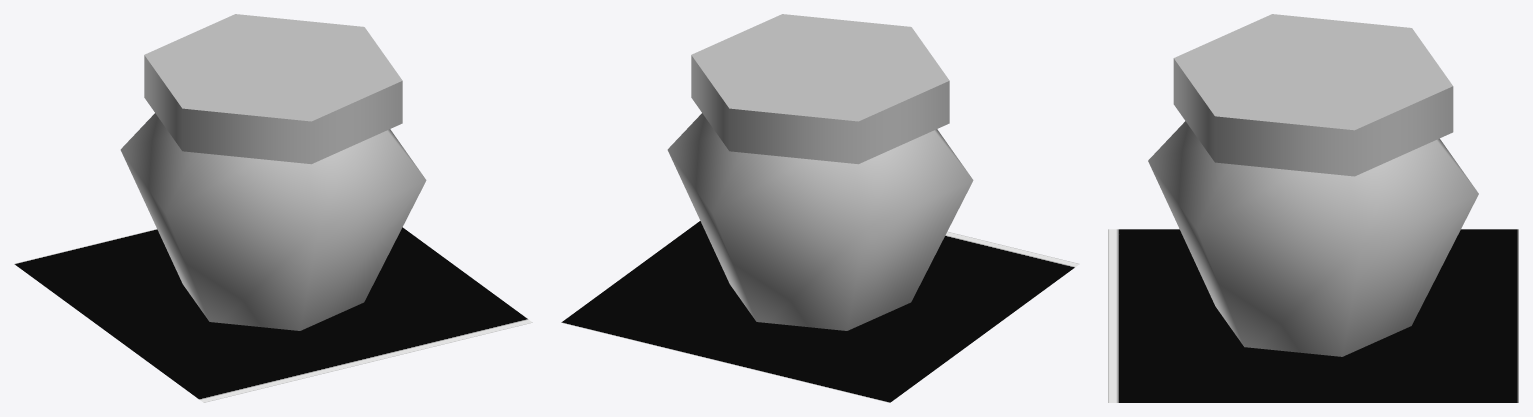
Rendered from vase_05.fbx.
The picture shows the model from 3 angles, left to right: view 1: azimuth 30°, elevation 25°; view 2: azimuth 150°, elevation 25°; view 3: azimuth 270°, elevation 25°; orthographic projection. The views are drawn at different scales.
Parts seen in each view (by area): view 1: vase_05, shadow; view 2: vase_05, shadow; view 3: vase_05, shadow.
Part boxes in pixels (x1,y1,x2,y2): vase_05: [120, 14, 426, 330]; shadow: [14, 227, 532, 402]; vase_05: [667, 14, 973, 330]; shadow: [561, 221, 1079, 402]; vase_05: [1148, 14, 1478, 356]; shadow: [1108, 229, 1518, 402].
Size of the model in its own units: 14.28 by 9.76 by 14.28.
